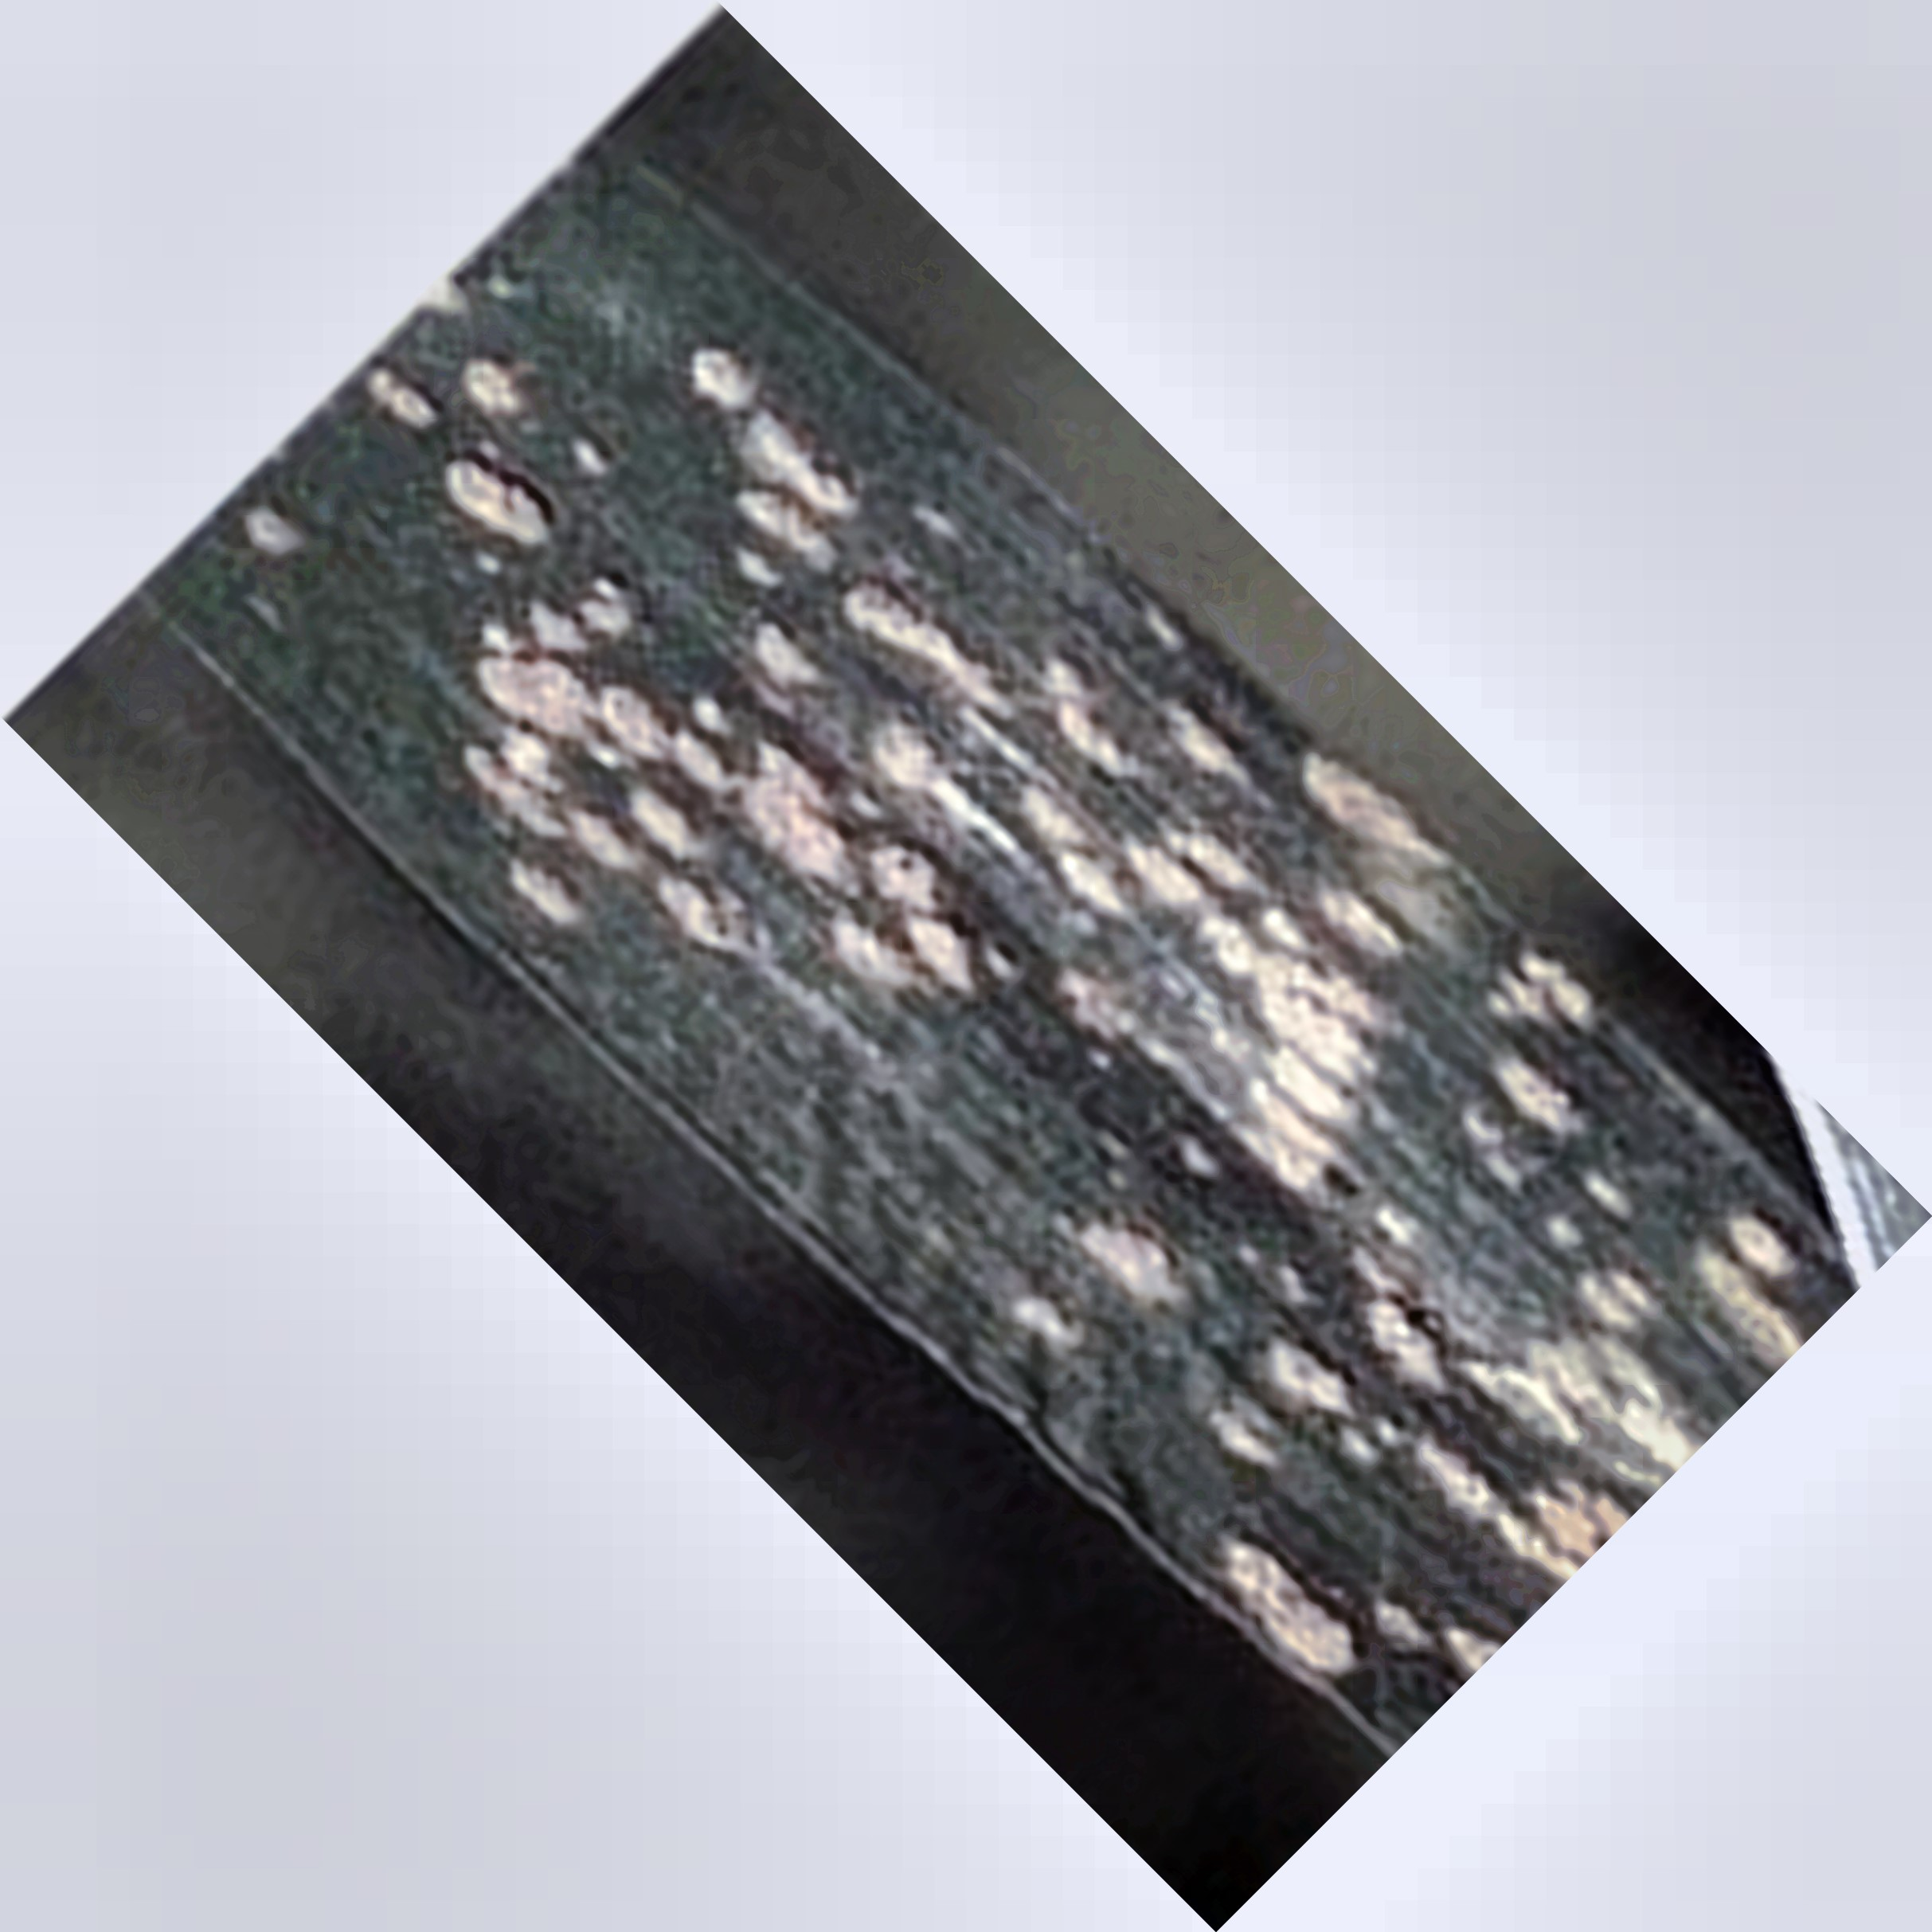Powdery Mildew: (405, 441, 1603, 1605)
